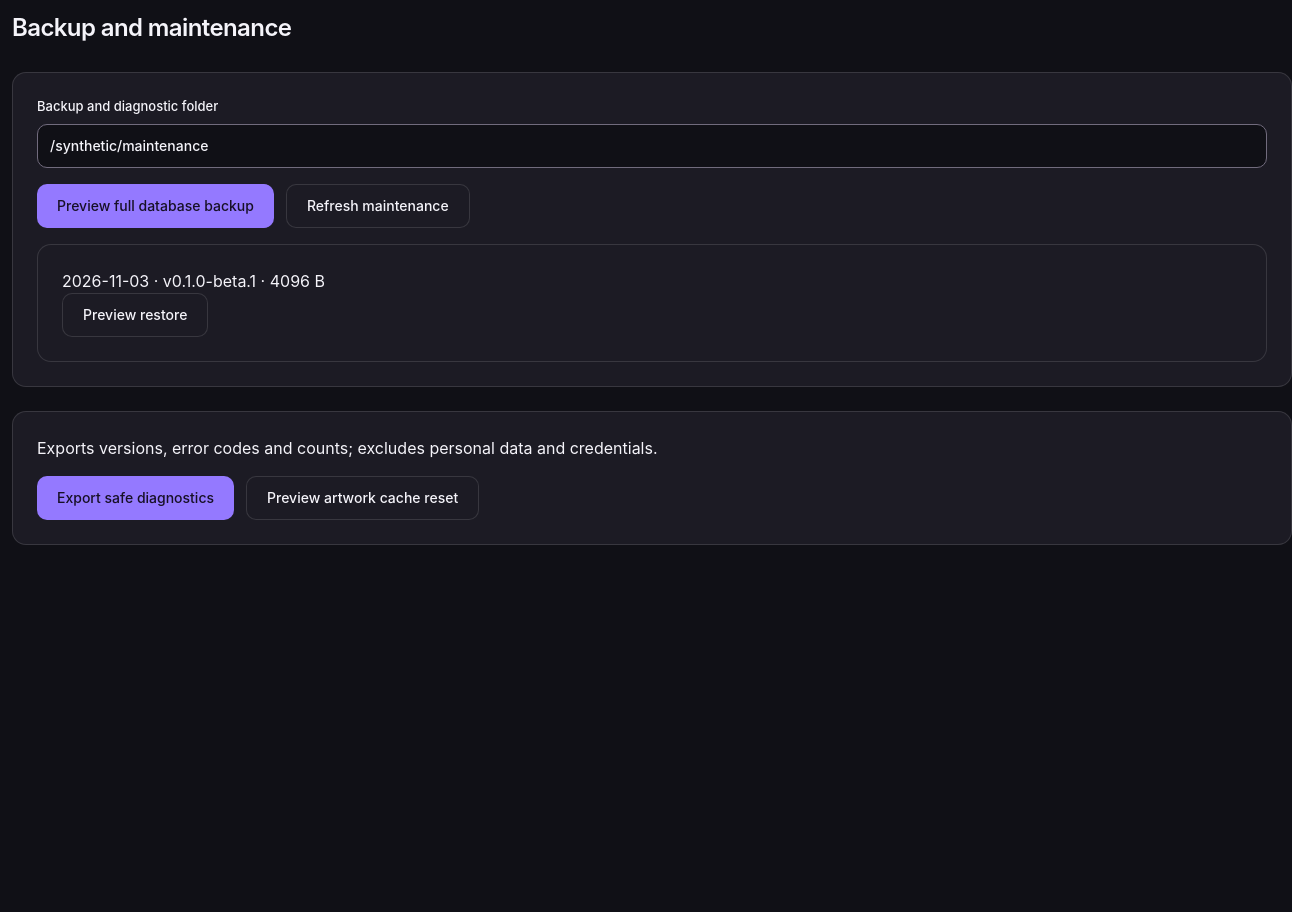
discards privacy-bound previews after locking
Click the button "Preview full database backup". click: (155, 206)
box: [37,184,274,228]
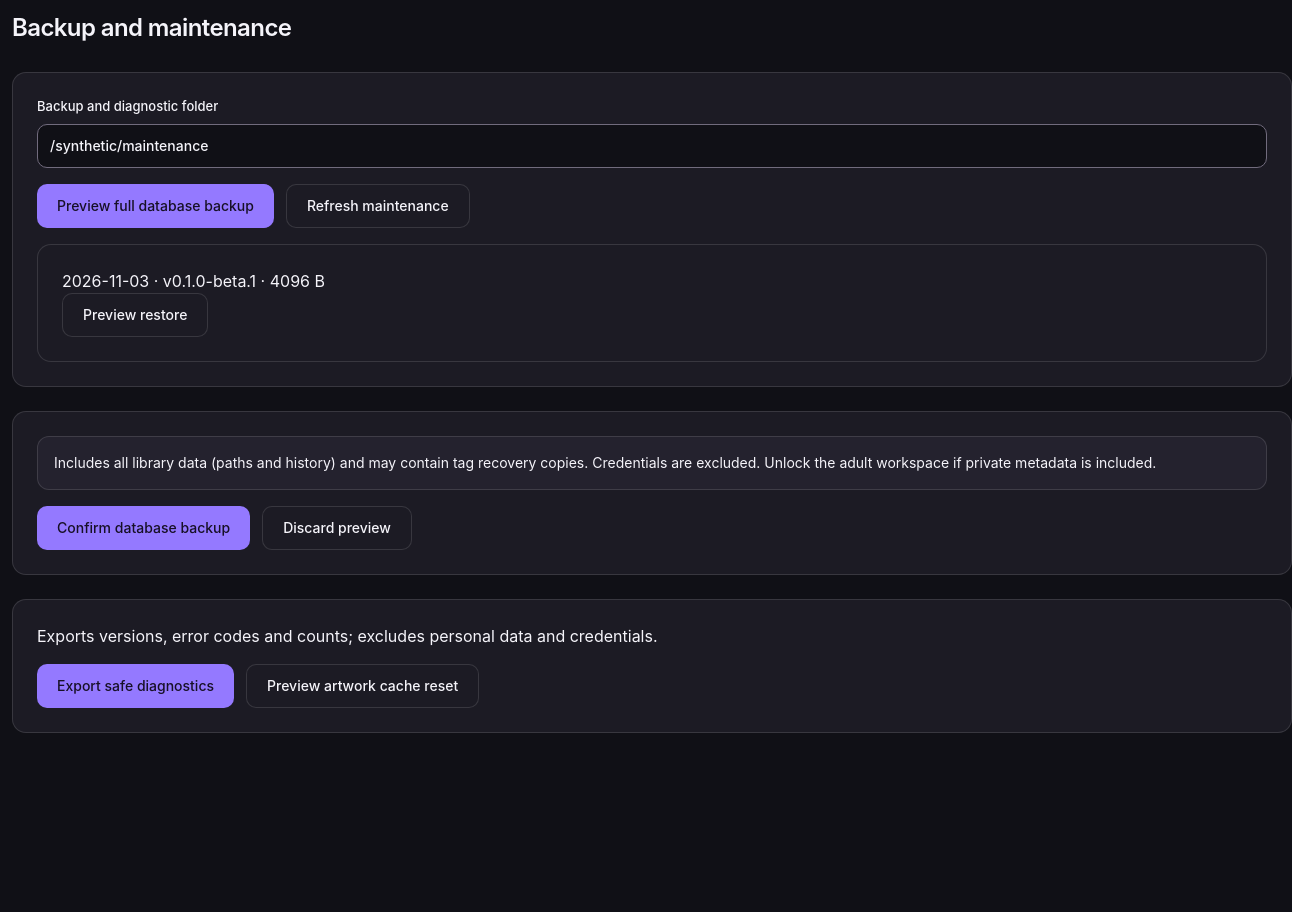
Check: the button "Confirm database backup" is shown, box [37,506,250,550]
